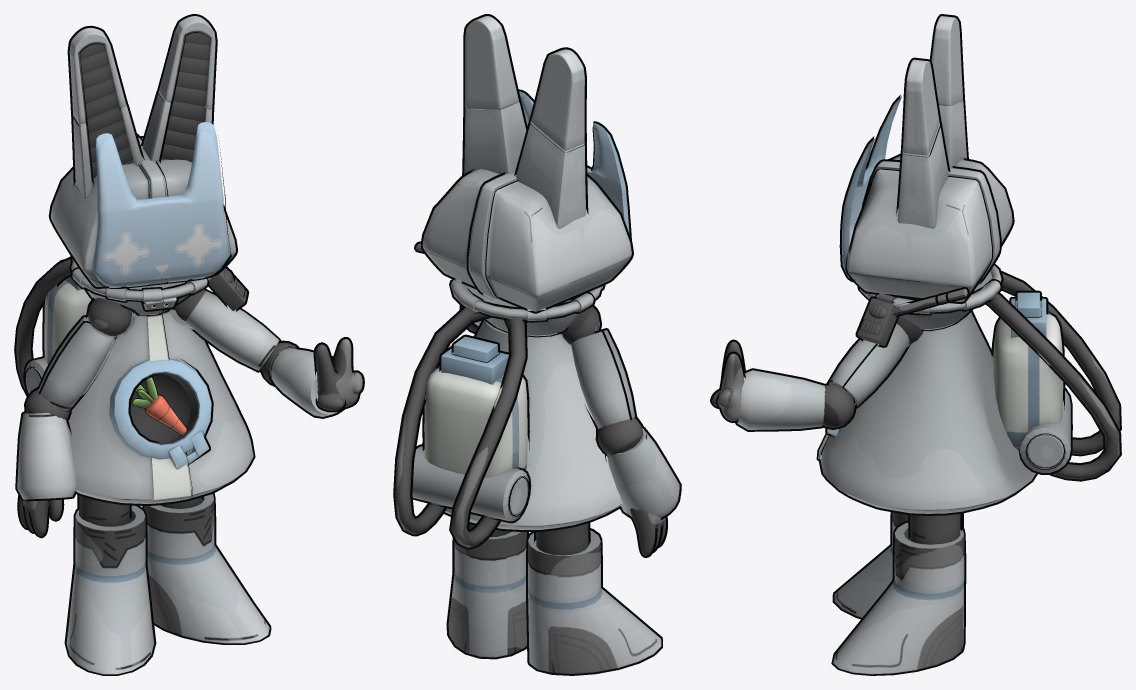
File: space_bunny.glb
The picture shows the model from 3 angles, left to right: view 1: azimuth 30°, elevation 25°; view 2: azimuth 150°, elevation 25°; view 3: azimuth 270°, elevation 25°; orthographic projection. The views are drawn at different scales.
Visible parts, largest first — view 1: SpaceBunny_Techno Bunny_0, SpaceBunnyOutline_Outline_0, Carrot_Techno Bunny_0; view 2: SpaceBunny_Techno Bunny_0, SpaceBunnyOutline_Outline_0; view 3: SpaceBunny_Techno Bunny_0, SpaceBunnyOutline_Outline_0.
Part boxes in pixels (<box>): SpaceBunny_Techno Bunny_0: <box>16,16,362,674</box>; SpaceBunnyOutline_Outline_0: <box>14,14,364,675</box>; Carrot_Techno Bunny_0: <box>132,377,186,434</box>; SpaceBunny_Techno Bunny_0: <box>395,16,679,673</box>; SpaceBunnyOutline_Outline_0: <box>393,14,681,675</box>; SpaceBunny_Techno Bunny_0: <box>712,16,1119,674</box>; SpaceBunnyOutline_Outline_0: <box>710,14,1121,675</box>.
Size of what is drawn, in the model's own units: 1.1 by 2.46 by 1.55.
2 materials, 1 textured.
